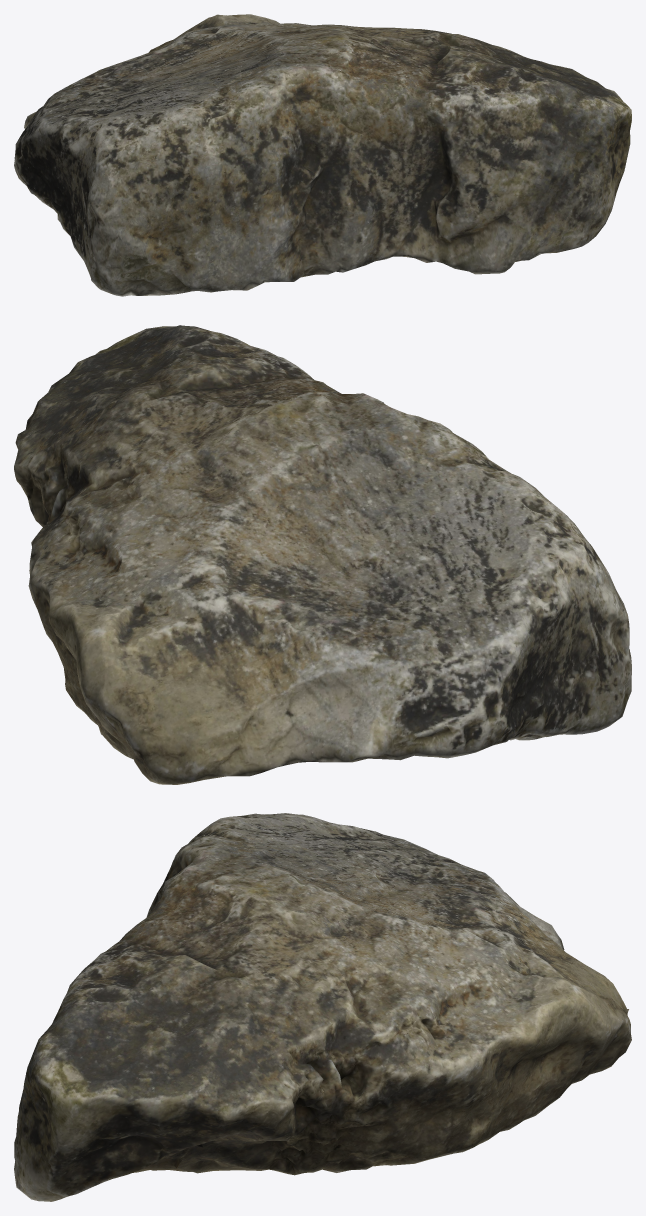
File: Rock4.fbx
3 views of the same model, one above another, from view 1: azimuth 30°, elevation 25°; view 2: azimuth 150°, elevation 25°; view 3: azimuth 270°, elevation 25° (orthographic). The views are drawn at different scales.
Visible parts, largest first — view 1: moss rock 11; view 2: moss rock 11; view 3: moss rock 11.
Part boxes in pixels (x1,y1,x2,y2): moss rock 11: [14, 14, 631, 296]; moss rock 11: [14, 325, 631, 784]; moss rock 11: [14, 813, 631, 1201].
Size of the model in its own units: 195 by 76.85 by 180.
